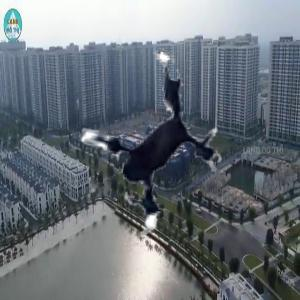drone: (37, 37, 248, 248)
